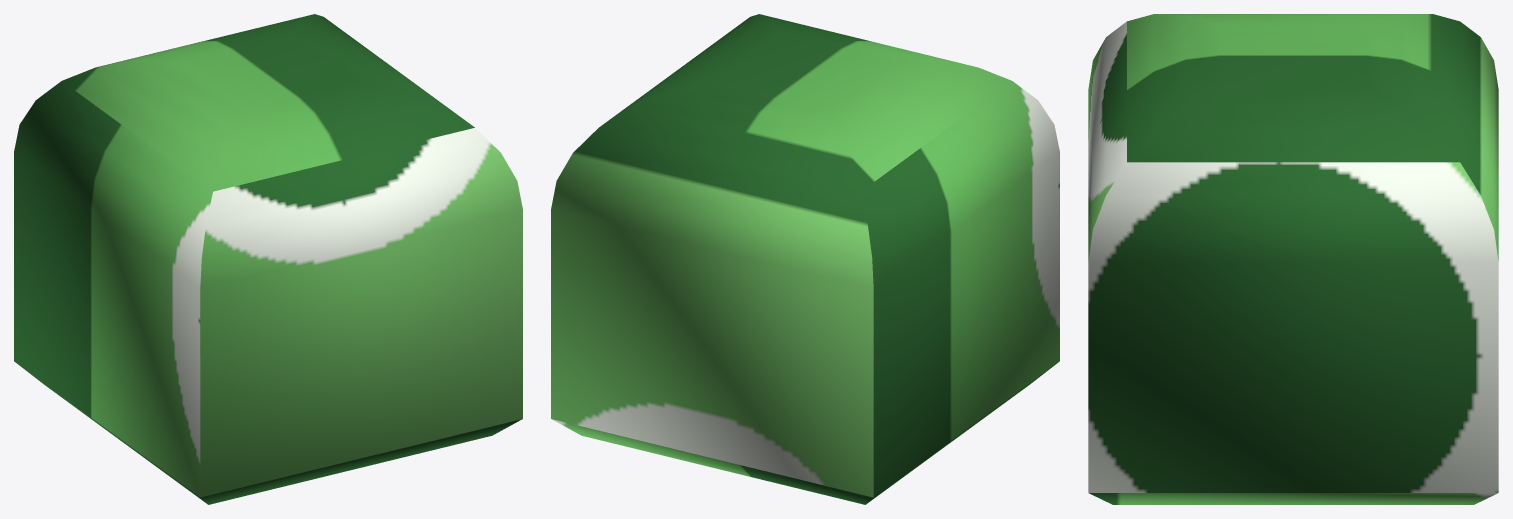
Rendered from Goal_Gate.obj.
3 views of the same model, side by side, from view 1: azimuth 30°, elevation 25°; view 2: azimuth 150°, elevation 25°; view 3: azimuth 270°, elevation 25° (orthographic). The views are drawn at different scales.
Parts seen in each view (by area): view 1: Goal_Gate; view 2: Goal_Gate; view 3: Goal_Gate.
Boxes of the visible parts, x1,y1,x2,y2 form: Goal_Gate: [14, 14, 522, 504]; Goal_Gate: [551, 14, 1059, 504]; Goal_Gate: [1088, 14, 1498, 504].
Size of the model in its own units: 1 by 1 by 1.
Materials: 1 (1 with a texture image).
